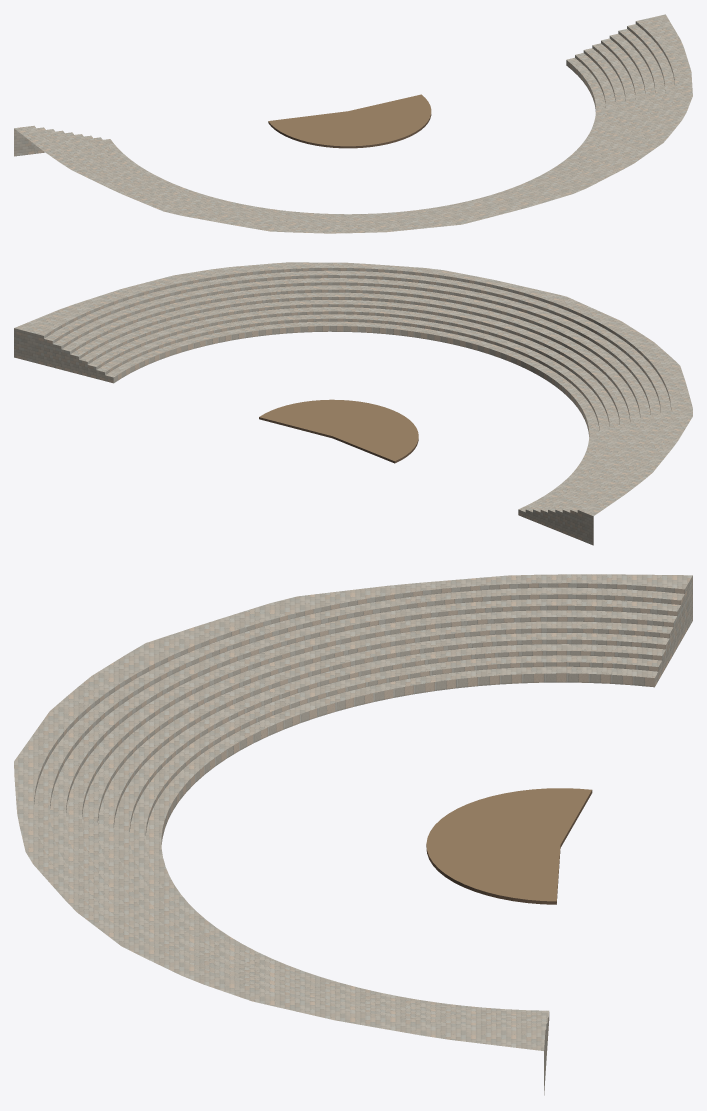
3 views of the same model, one above another, from view 1: azimuth 30°, elevation 25°; view 2: azimuth 150°, elevation 25°; view 3: azimuth 270°, elevation 25° (orthographic). The views are drawn at different scales.
Parts seen in each view (by area): view 1: theatre-seats, theatre-deck; view 2: theatre-seats, theatre-deck; view 3: theatre-seats, theatre-deck.
Part boxes in pixels (left/top/right/bottom): theatre-seats: left=14, top=14, right=692, bottom=233; theatre-deck: left=268, top=94, right=431, bottom=148; theatre-seats: left=14, top=262, right=692, bottom=545; theatre-deck: left=259, top=399, right=418, bottom=463; theatre-seats: left=14, top=574, right=692, bottom=1095; theatre-deck: left=426, top=788, right=592, bottom=904.
Size of the model in its own units: 67.32 by 3 by 40.5.
3 materials, 1 textured.
